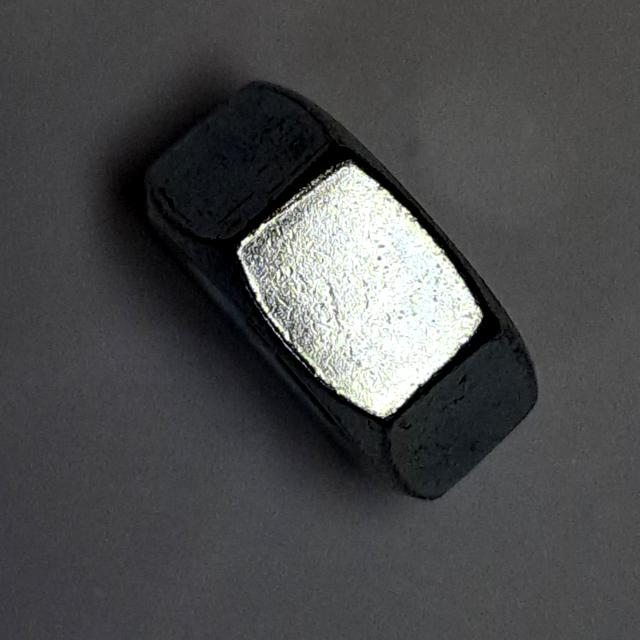Side_Excellent: (128, 58, 555, 513)
